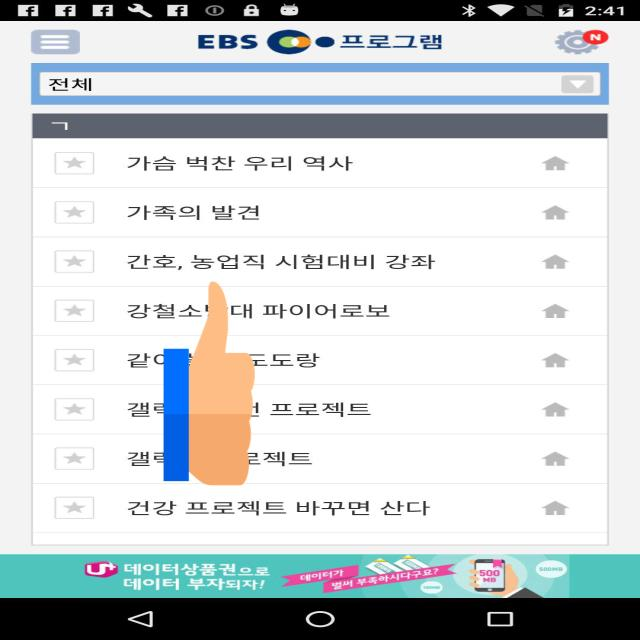privacy zuckering: (163, 276, 255, 490)
